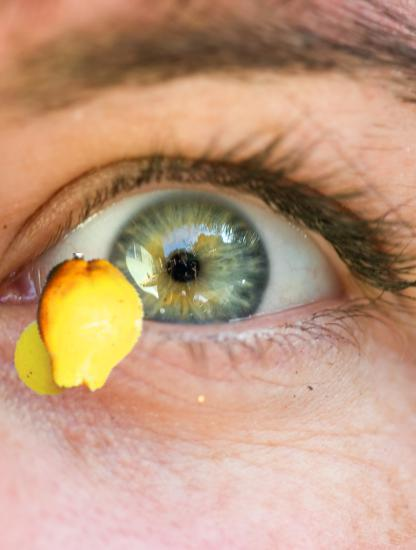Peach: (9, 313, 92, 396)
Quince: (21, 253, 160, 392)
